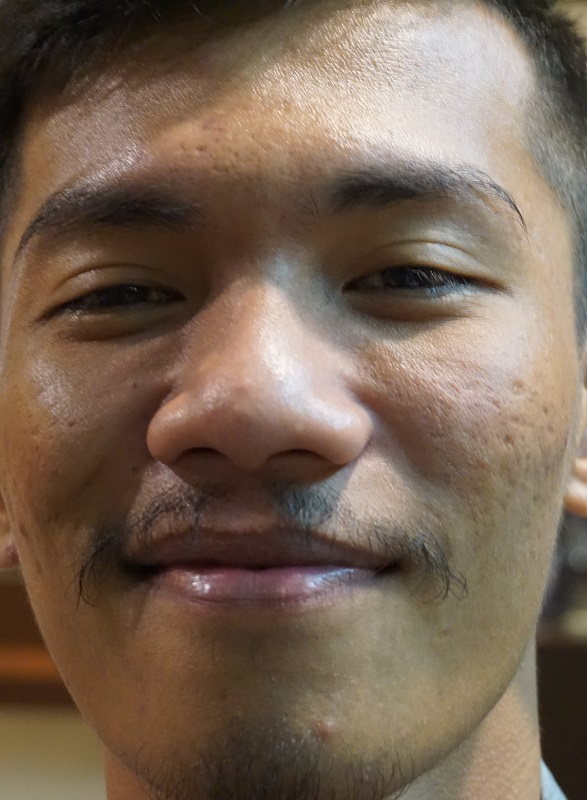bekas: (12, 517, 38, 543), (504, 374, 527, 397), (500, 430, 524, 452), (433, 623, 456, 645), (506, 470, 526, 495), (534, 438, 557, 459), (523, 487, 543, 511), (537, 458, 556, 479), (496, 490, 514, 511), (464, 421, 486, 438), (504, 411, 527, 427), (29, 555, 47, 575), (535, 400, 553, 419), (43, 464, 63, 481), (543, 415, 559, 435), (488, 395, 506, 412), (215, 683, 232, 700), (42, 415, 60, 431), (62, 416, 78, 432), (473, 452, 489, 467), (26, 424, 41, 440), (469, 480, 483, 497), (496, 459, 510, 473), (479, 433, 491, 449), (441, 468, 454, 482), (30, 441, 44, 454), (136, 701, 150, 714)
jerawat: (315, 715, 339, 740), (232, 376, 256, 394), (235, 405, 254, 427)
